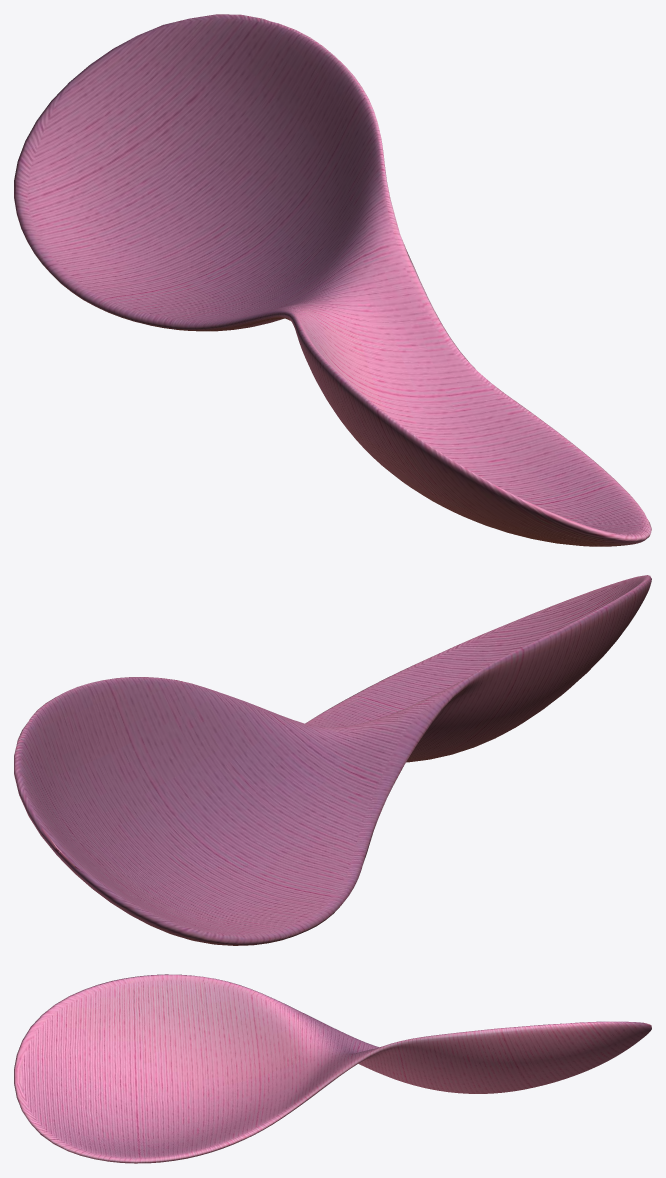
Rendered from 01_twist.glb.
The picture shows the model from 3 angles, top to bottom: view 1: azimuth 30°, elevation 25°; view 2: azimuth 150°, elevation 25°; view 3: azimuth 270°, elevation 25°; orthographic projection. The views are drawn at different scales.
Visible parts, largest first — view 1: 01_twist; view 2: 01_twist; view 3: 01_twist.
Boxes of the visible parts, x1,y1,x2,y2 form: 01_twist: (14, 14, 651, 546); 01_twist: (14, 575, 651, 945); 01_twist: (14, 974, 651, 1163).
Bounding box in the file's own units: 0.0349 × 0.0276 × 0.1097.
Materials: 1 (1 with a texture image).
